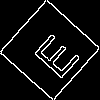E: (25, 25, 82, 81)
